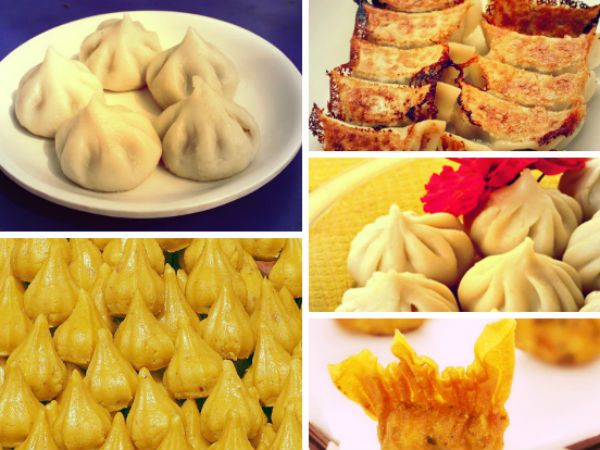modak: (158, 77, 270, 180), (343, 208, 477, 289), (53, 95, 159, 178), (466, 253, 591, 323), (478, 180, 586, 260), (27, 51, 111, 127), (153, 39, 249, 105)
